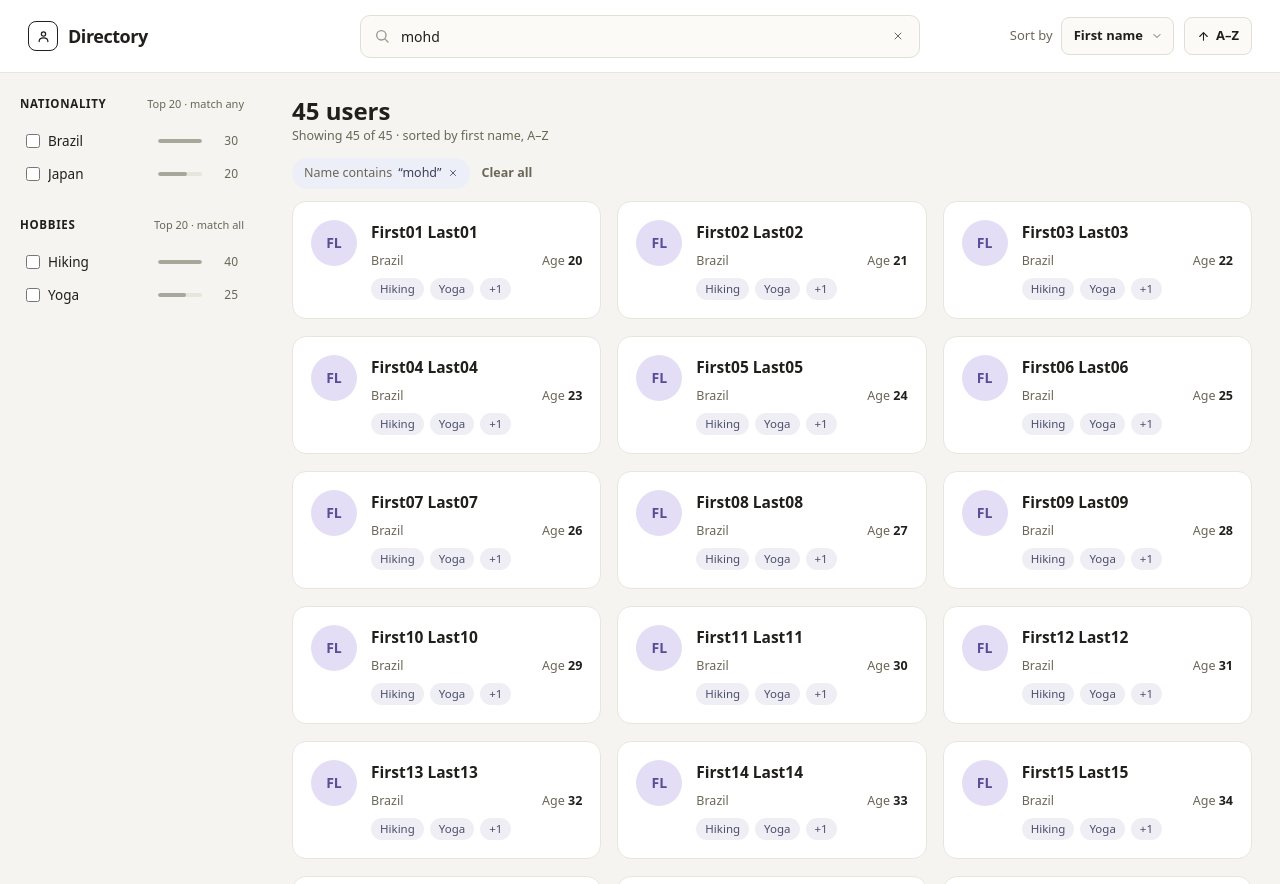
Scenario: search box › the clear (×) button empties the box and the search at once
expect the heading "First01 Last01" is shown: met, box [371,220,478,242]
Click the button named "Clear search" at (898, 36), box [882,20,914,52]
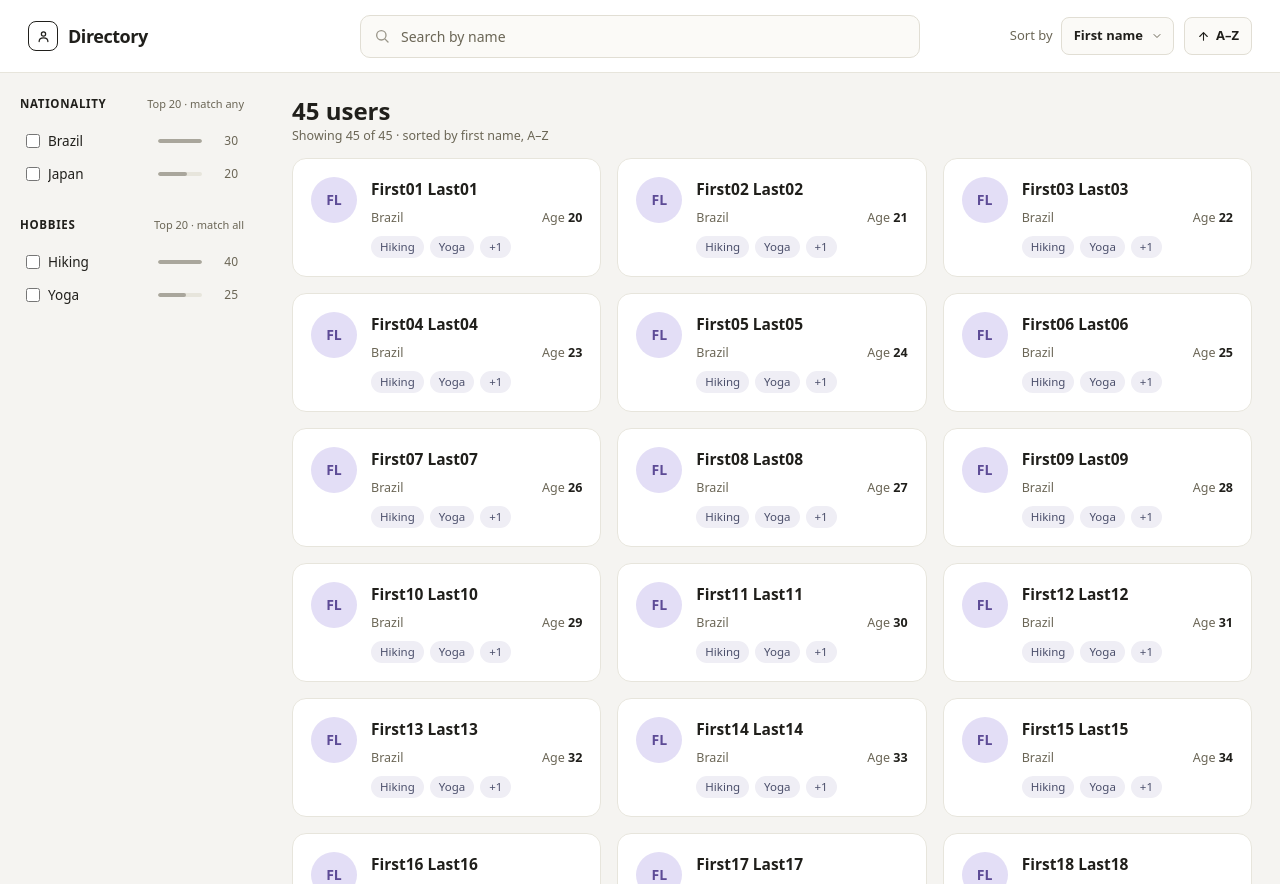
expect the search field is empty: met, box [360,14,920,58]
